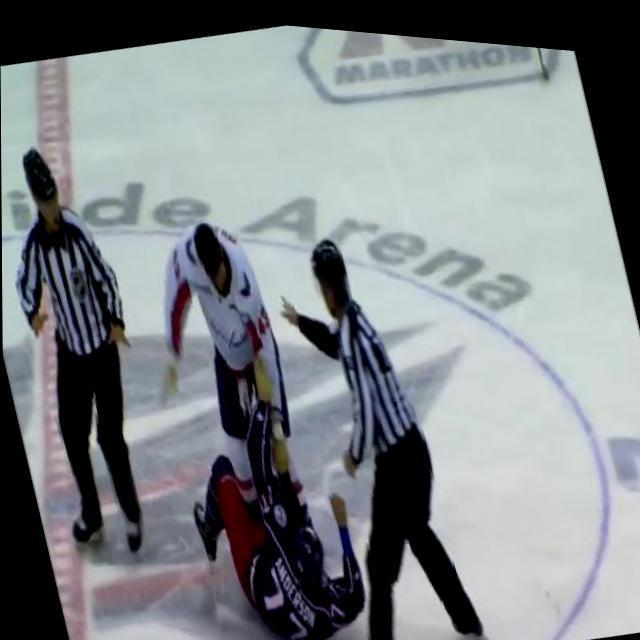fight: (122, 177, 376, 640)
